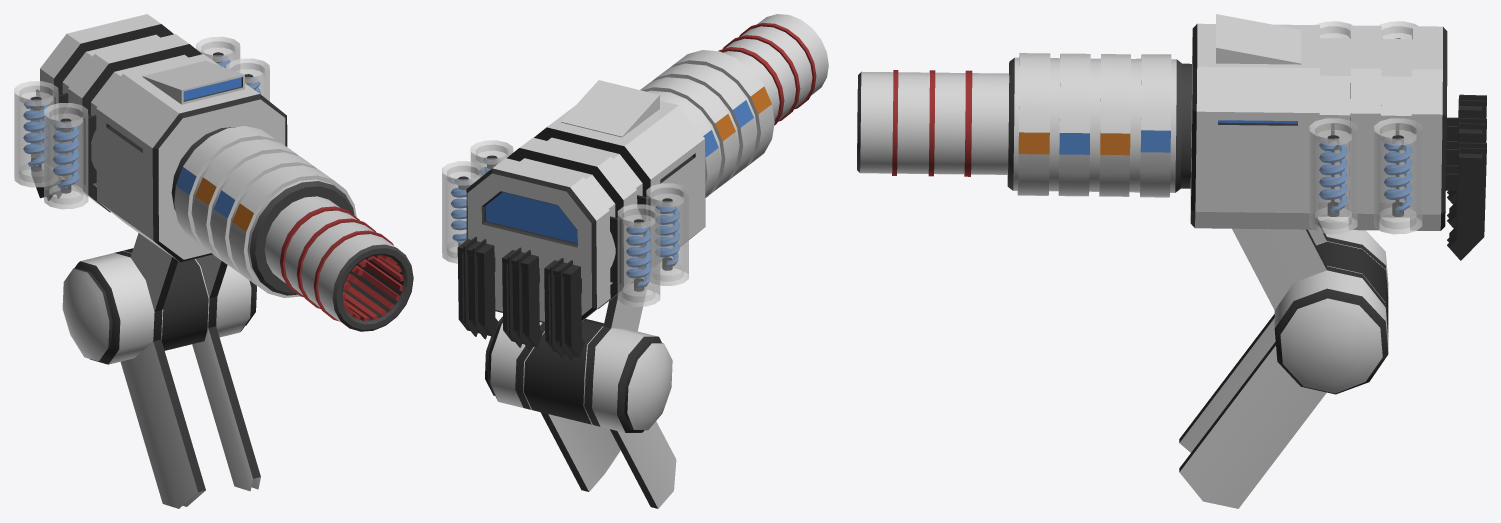
The model's file is tower_eon_cannon_upgrade2.fbx.
3 renders of one model, left to right at view 1: azimuth 30°, elevation 25°; view 2: azimuth 150°, elevation 25°; view 3: azimuth 270°, elevation 25°, orthographic. The views are drawn at different scales.
Parts seen in each view (by area): view 1: eon_cannon3_top, eon_cannon3_bottom, passive_twisting1, passive_twisting3, passive_twisting4, passive_twisting2; view 2: eon_cannon3_top, eon_cannon3_bottom, passive_twisting2, passive_twisting1, passive_twisting3, passive_twisting4; view 3: eon_cannon3_top, eon_cannon3_bottom, passive_twisting4, passive_twisting2, passive_twisting1, passive_twisting3.
Boxes of the visible parts, x1,y1,x2,y2 form: eon_cannon3_top: (14, 14, 413, 364); eon_cannon3_bottom: (120, 326, 260, 508); passive_twisting1: (229, 165, 356, 297); passive_twisting3: (192, 139, 299, 266); passive_twisting4: (174, 126, 280, 249); passive_twisting2: (211, 152, 317, 280); eon_cannon3_top: (442, 14, 828, 432); eon_cannon3_bottom: (540, 412, 676, 508); passive_twisting2: (652, 63, 756, 183); passive_twisting1: (670, 50, 774, 171); passive_twisting3: (640, 77, 738, 194); passive_twisting4: (647, 90, 720, 197); eon_cannon3_top: (857, 14, 1486, 394); eon_cannon3_bottom: (1179, 314, 1326, 508); passive_twisting4: (1134, 54, 1176, 197); passive_twisting2: (1053, 53, 1095, 196); passive_twisting1: (1013, 53, 1055, 195); passive_twisting3: (1094, 54, 1136, 196).
Size of the model in its own units: 11.73 by 21.33 by 26.64.
